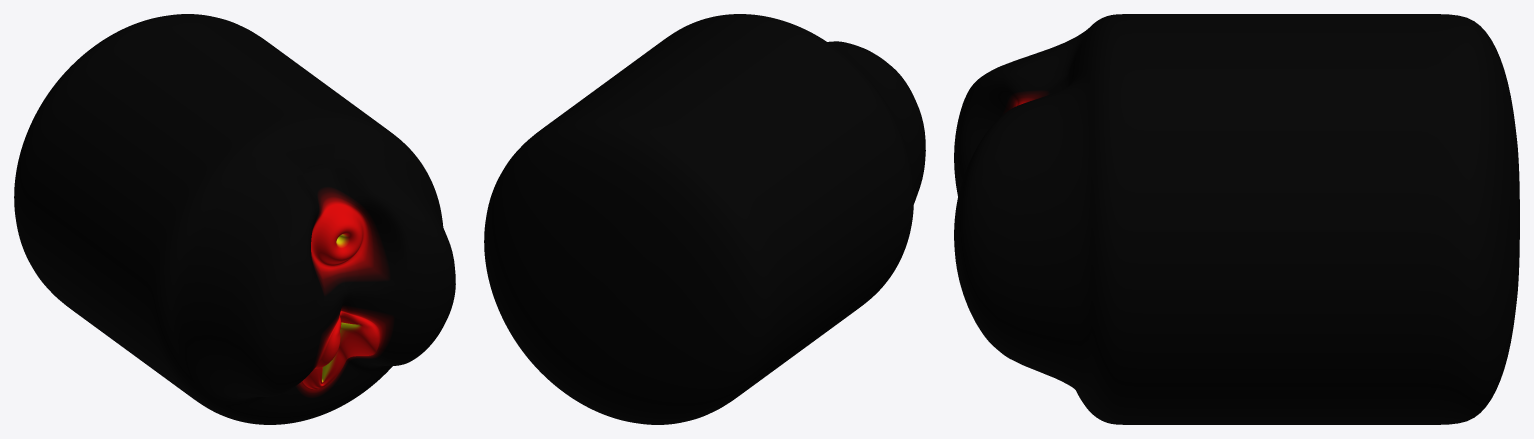
File: Poche_Fessier_Double.fbx
3 views of the same model, side by side, from view 1: azimuth 30°, elevation 25°; view 2: azimuth 150°, elevation 25°; view 3: azimuth 270°, elevation 25° (orthographic). The views are drawn at different scales.
Parts seen in each view (by area): view 1: Poche_Fessier_Double; view 2: Poche_Fessier_Double; view 3: Poche_Fessier_Double.
Part boxes in pixels (x1,y1,x2,y2): Poche_Fessier_Double: [14, 14, 455, 424]; Poche_Fessier_Double: [484, 14, 925, 424]; Poche_Fessier_Double: [954, 14, 1519, 424].
Bounding box in the file's own units: 0.1759 × 0.1759 × 0.2422.
